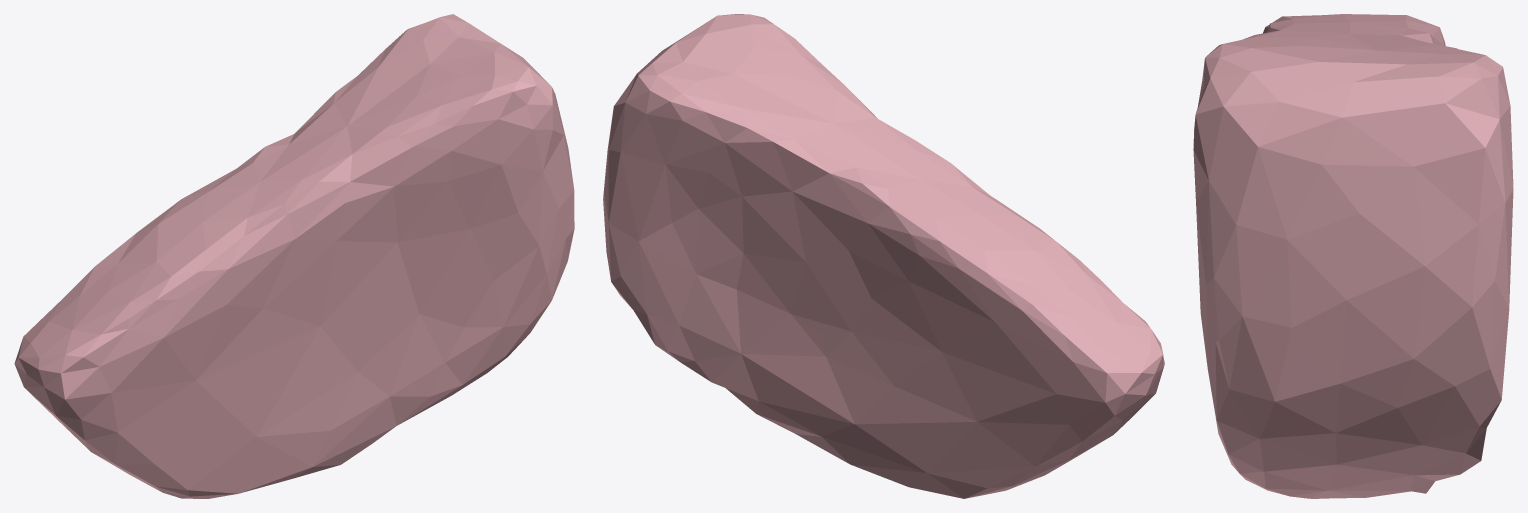
3 renders of one model, left to right at view 1: azimuth 30°, elevation 25°; view 2: azimuth 150°, elevation 25°; view 3: azimuth 270°, elevation 25°, orthographic. The views are drawn at different scales.
Parts seen in each view (by area): view 1: 59.obj; view 2: 59.obj; view 3: 59.obj.
Part boxes in pixels (bbox=[...]): 59.obj: bbox=[14, 14, 574, 498]; 59.obj: bbox=[603, 14, 1164, 498]; 59.obj: bbox=[1193, 14, 1513, 498].
Size of the model in its own units: 1171 by 828 by 424.
